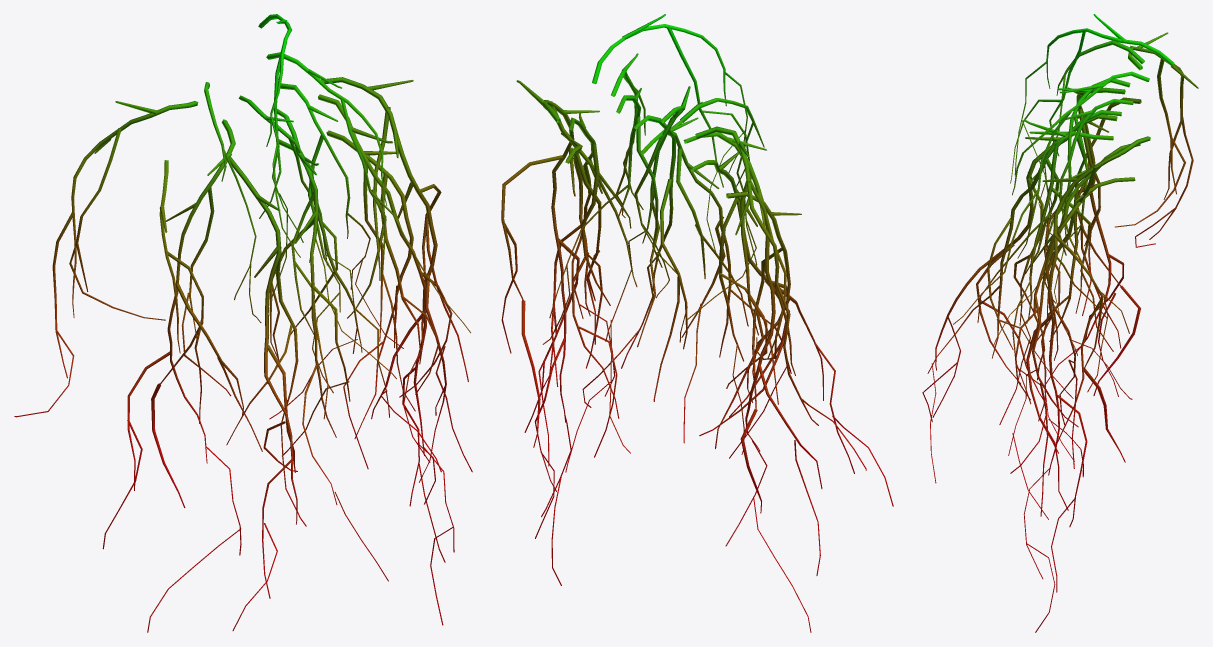
The model's file is Var13_LOD2.fbx.
3 views of the same model, side by side, from view 1: azimuth 30°, elevation 25°; view 2: azimuth 150°, elevation 25°; view 3: azimuth 270°, elevation 25° (orthographic). The views are drawn at different scales.
Visible parts, largest first — view 1: _0xkm_Var13_LOD2; view 2: _0xkm_Var13_LOD2; view 3: _0xkm_Var13_LOD2.
Boxes of the visible parts, left/top/right/bottom form: _0xkm_Var13_LOD2: left=14, top=14, right=472, bottom=632; _0xkm_Var13_LOD2: left=501, top=14, right=893, bottom=632; _0xkm_Var13_LOD2: left=922, top=14, right=1198, bottom=632.
Size of the model in its own units: 116 by 169 by 75.64.
